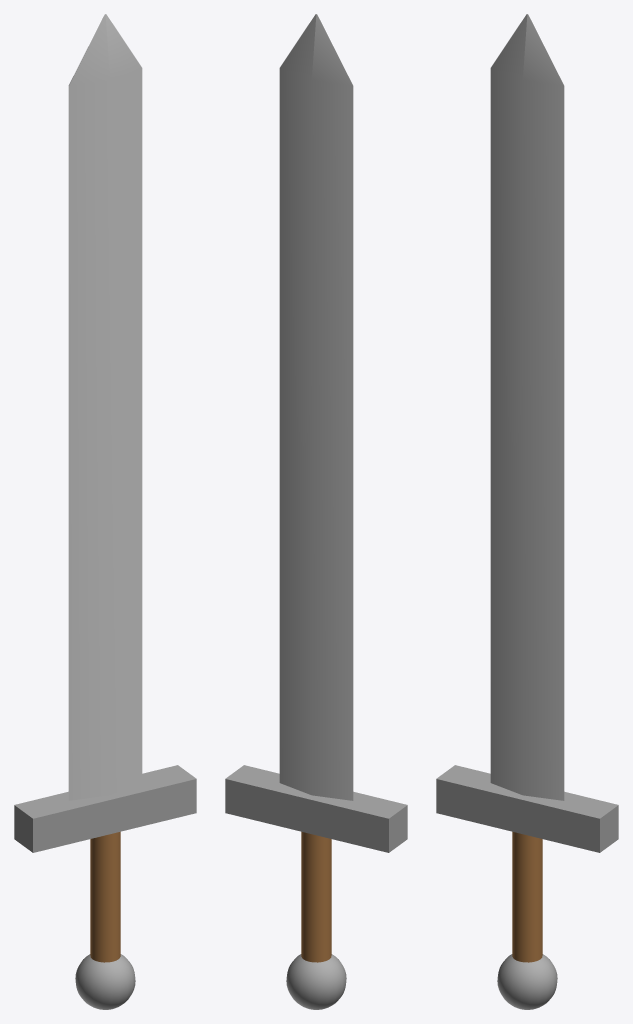
File: P_gareth_sword_upgrade.fbx
The picture shows the model from 3 angles, left to right: view 1: azimuth 30°, elevation 25°; view 2: azimuth 150°, elevation 25°; view 3: azimuth 330°, elevation 25°; orthographic projection.
Visible parts, largest first — view 1: pCube3; view 2: pCube3; view 3: pCube3.
Boxes of the visible parts, x1,y1,x2,y2 form: pCube3: (14,14,196,1009); pCube3: (225,14,407,1009); pCube3: (436,14,618,1009).
Bounding box in the file's own units: 50 × 290 × 16.
